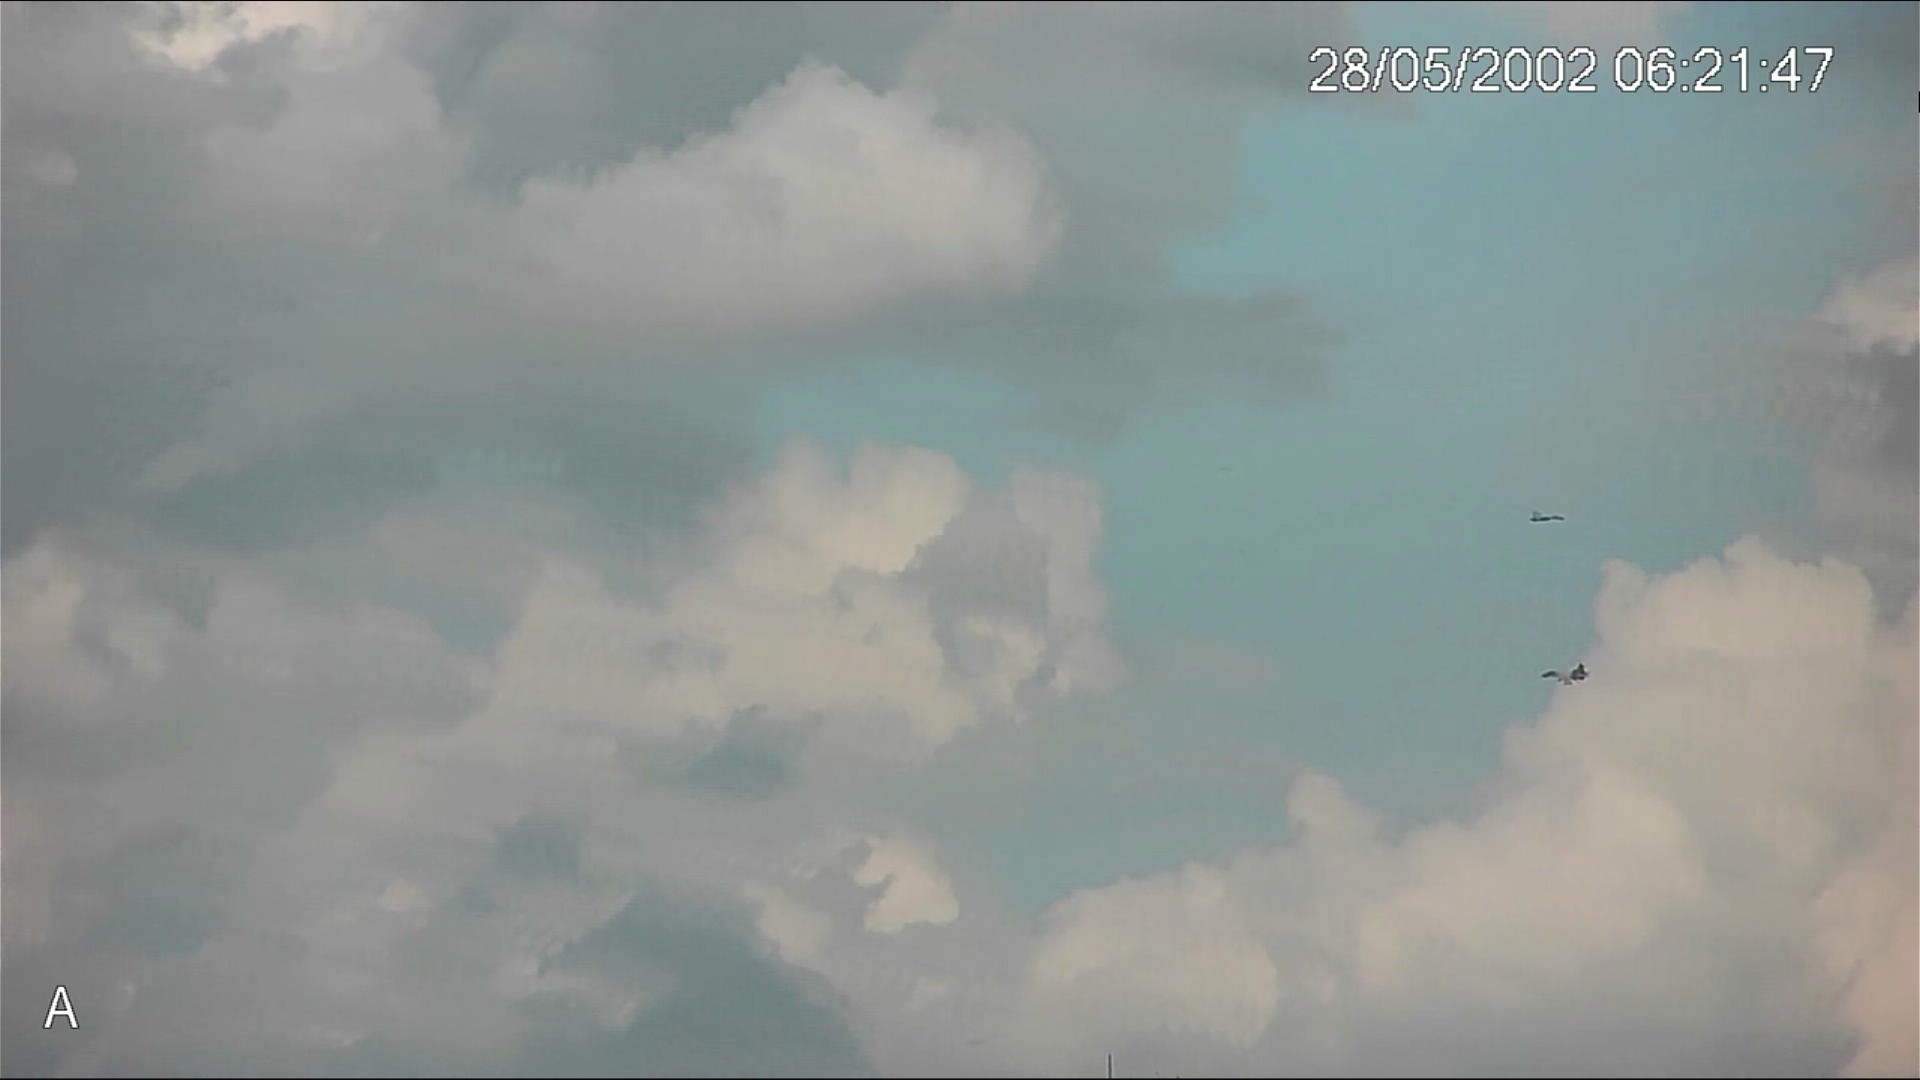SU_30: (1539, 658, 1590, 686), (1524, 504, 1567, 529)
